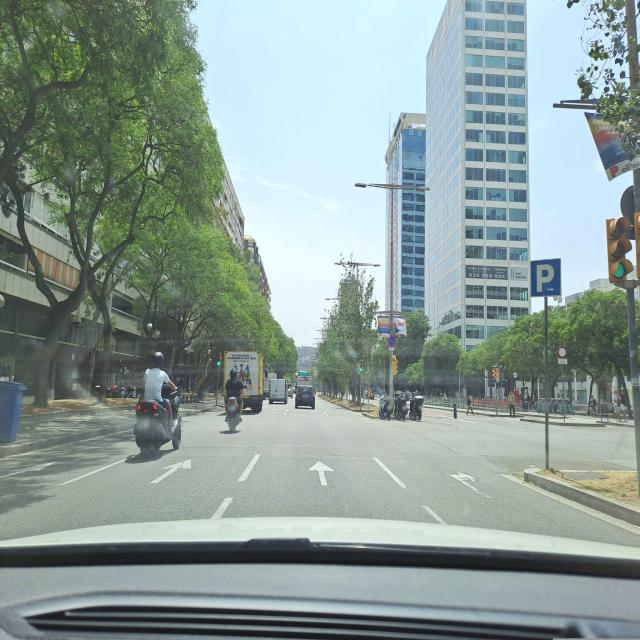bike: (134, 389, 184, 455), (223, 393, 244, 432), (392, 390, 409, 421), (408, 390, 423, 422), (377, 391, 393, 421)
car: (294, 384, 316, 409), (268, 378, 288, 404), (286, 384, 294, 398)
